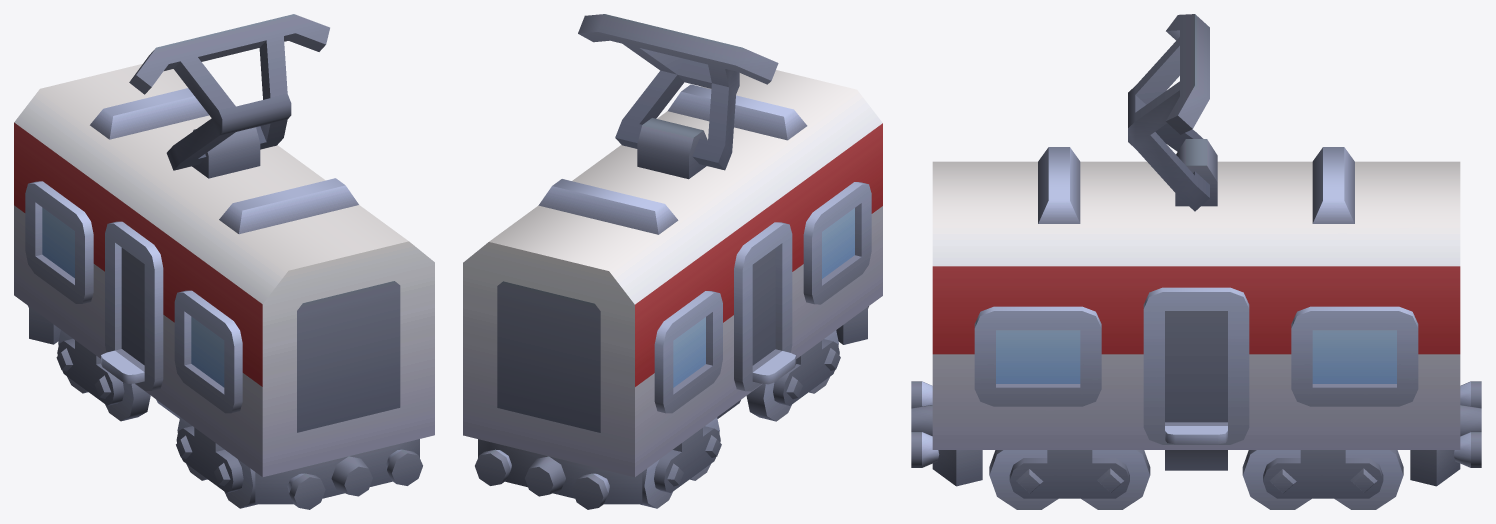
Rendered from tr-train-electric-city-b.glb.
3 views of the same model, side by side, from view 1: azimuth 30°, elevation 25°; view 2: azimuth 150°, elevation 25°; view 3: azimuth 270°, elevation 25° (orthographic). The views are drawn at different scales.
Visible parts, largest first — view 1: train-electric-city-b; view 2: train-electric-city-b; view 3: train-electric-city-b.
Part boxes in pixels (bbox=[...]): train-electric-city-b: bbox=[14, 14, 434, 509]; train-electric-city-b: bbox=[463, 14, 882, 509]; train-electric-city-b: bbox=[911, 14, 1481, 509].
Size of the model in its own units: 1.3 by 2.22 by 2.7.
1 material, 1 textured.
